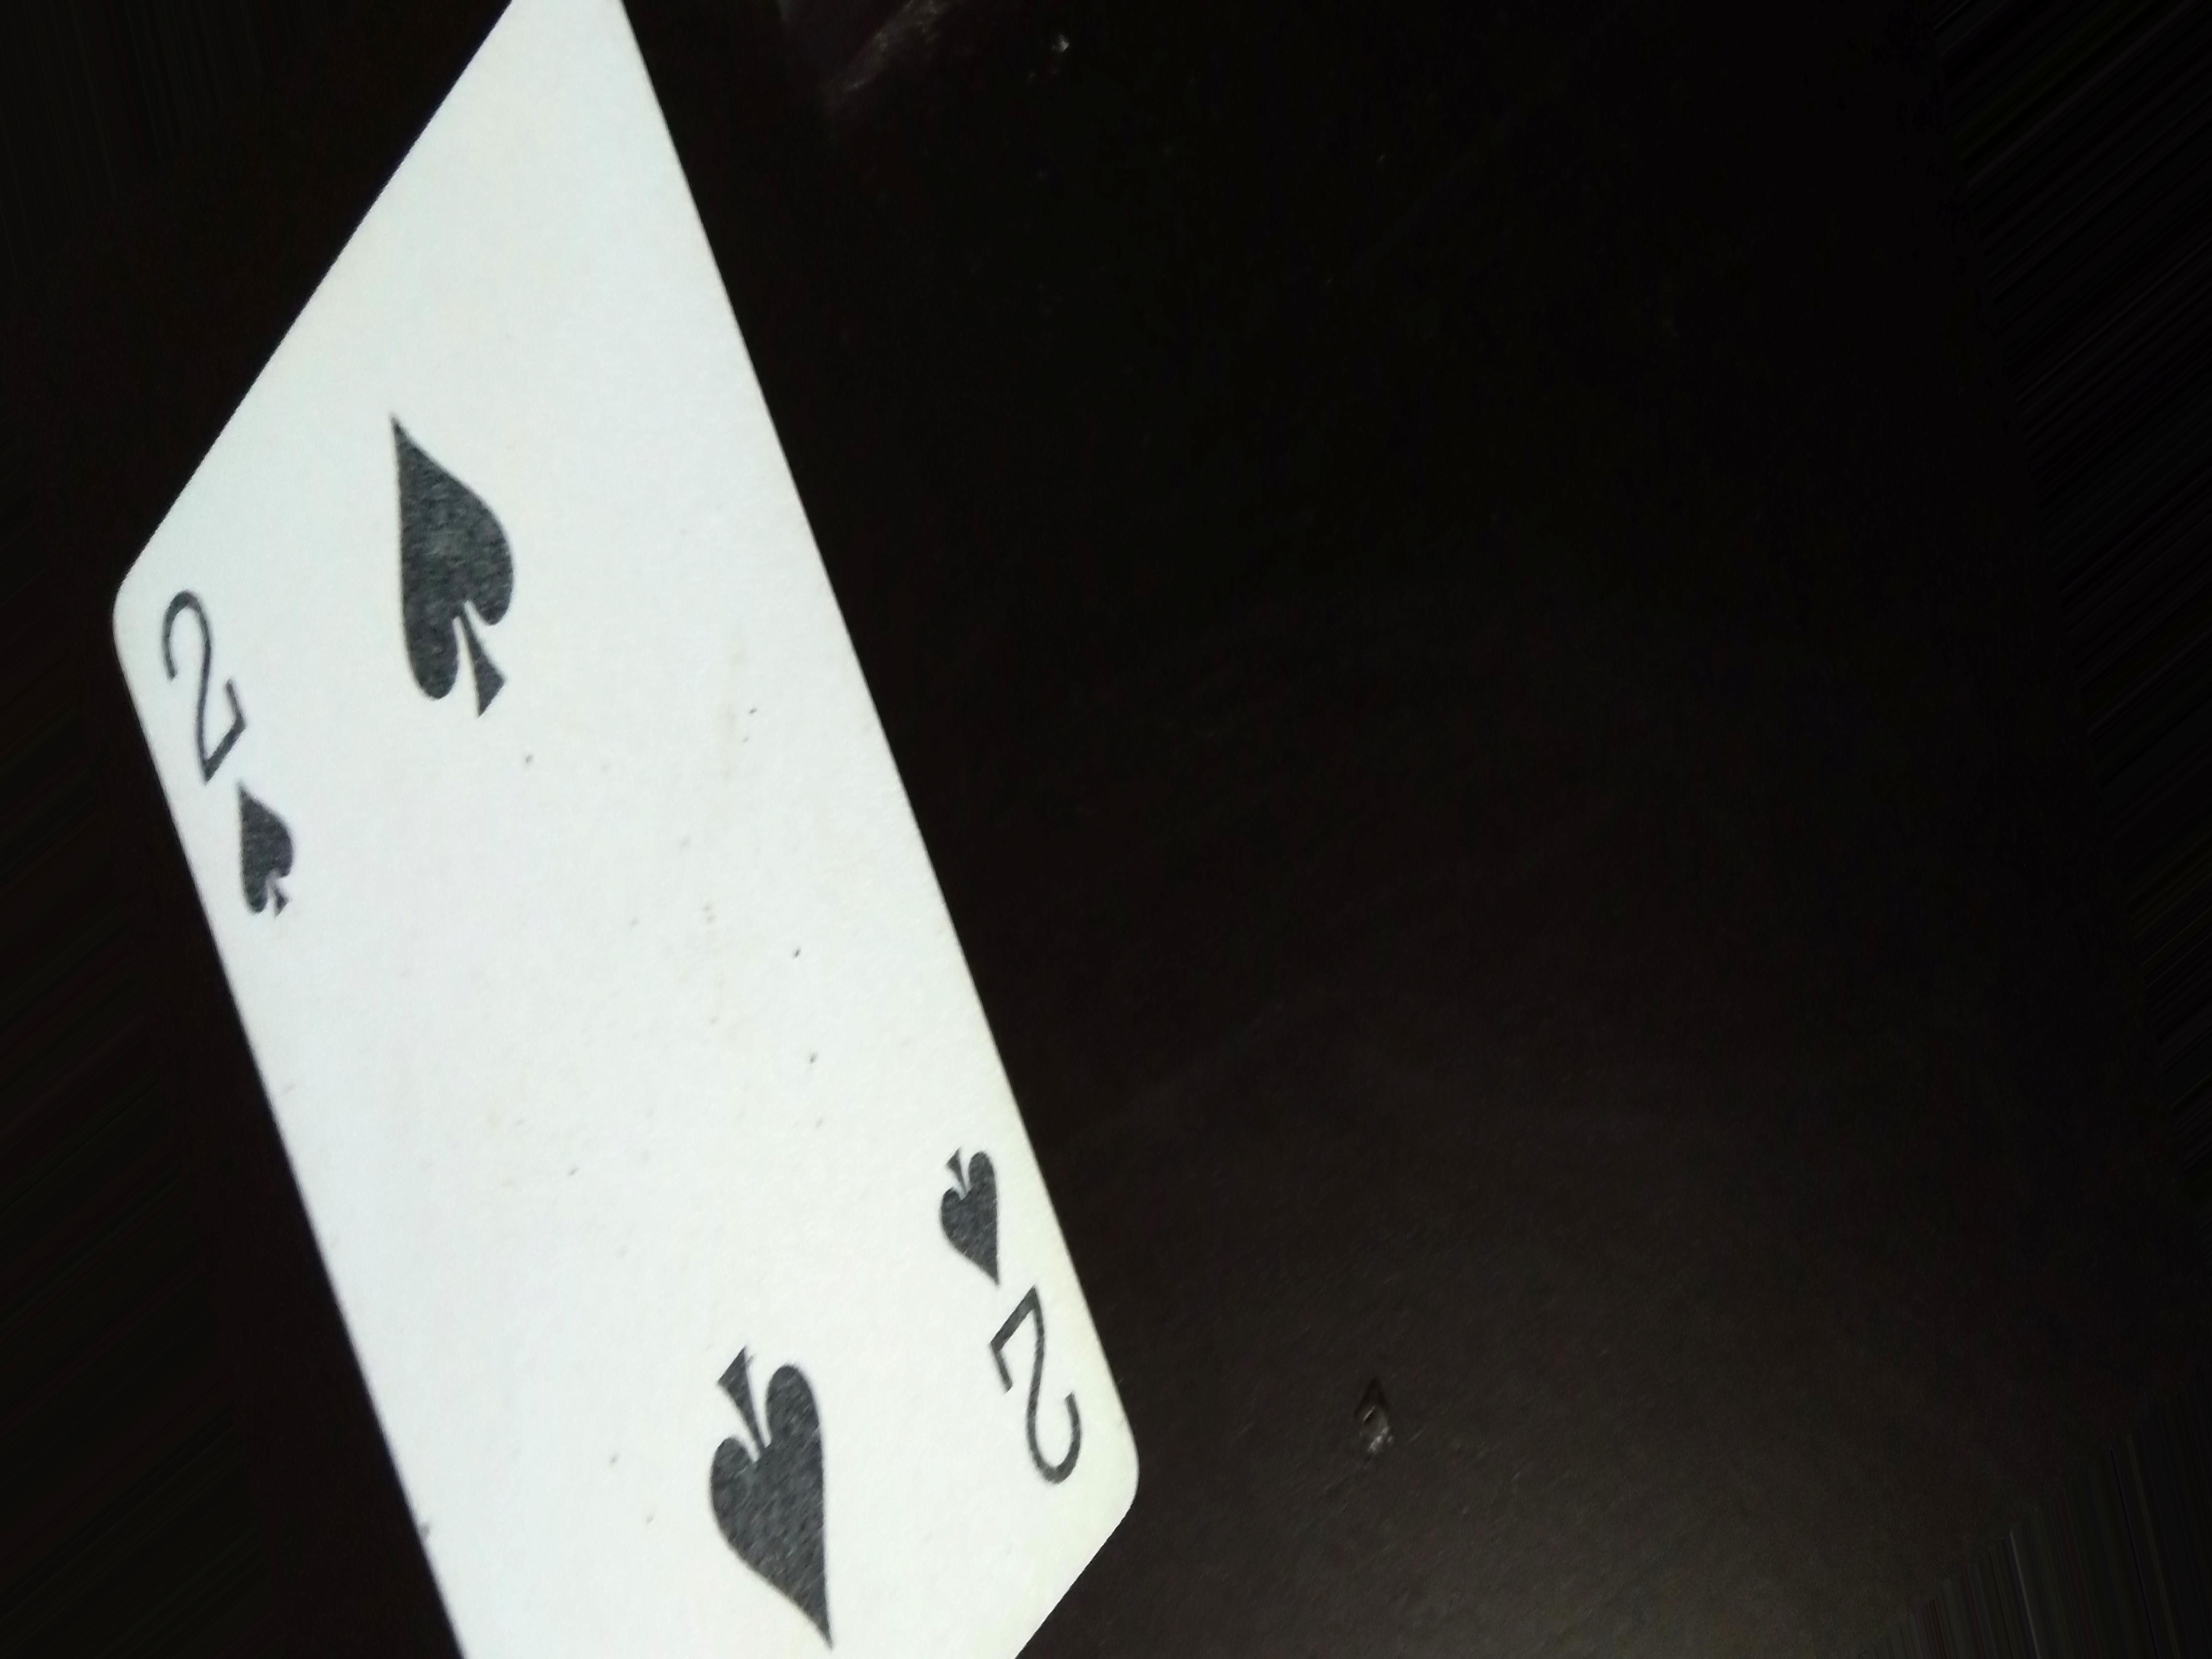2S: (913, 1133, 1108, 1480)
